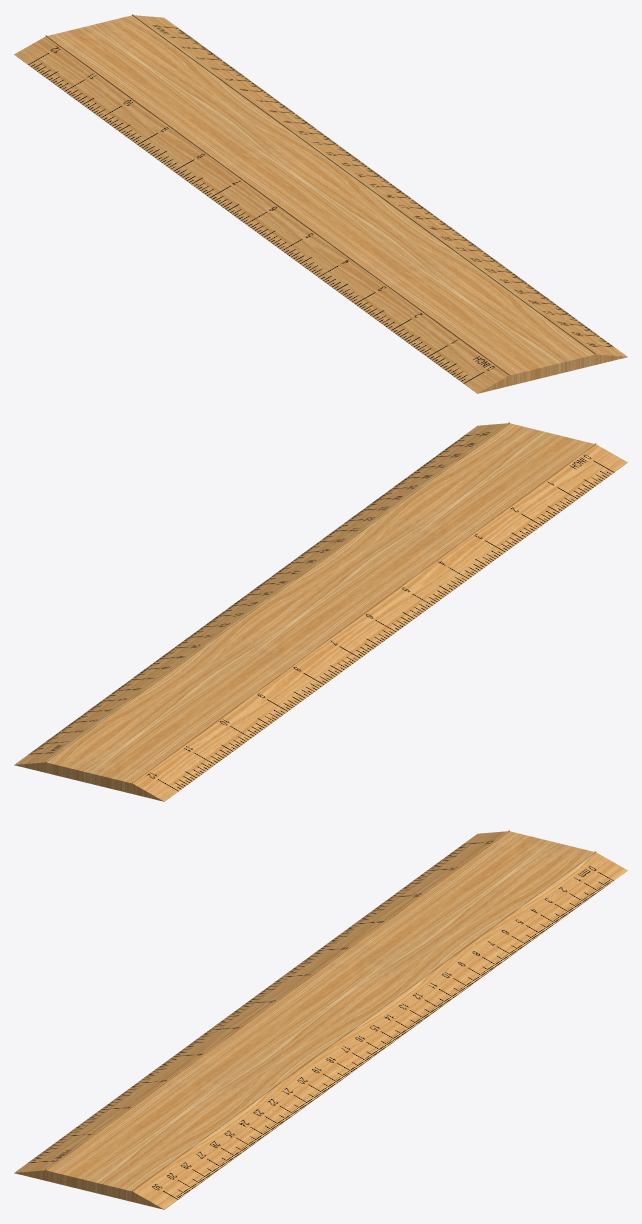
File: Wooden scale.fbx
The picture shows the model from 3 angles, top to bottom: view 1: azimuth 30°, elevation 25°; view 2: azimuth 150°, elevation 25°; view 3: azimuth 330°, elevation 25°; orthographic projection.
Parts seen in each view (by area): view 1: Ruler; view 2: Ruler; view 3: Ruler.
Part boxes in pixels (left/top/right/bottom): Ruler: left=14, top=14, right=627, bottom=393; Ruler: left=14, top=422, right=627, bottom=801; Ruler: left=14, top=830, right=627, bottom=1209.
Size of the model in its own units: 6 by 0.441 by 32.
1 material, 1 textured.
